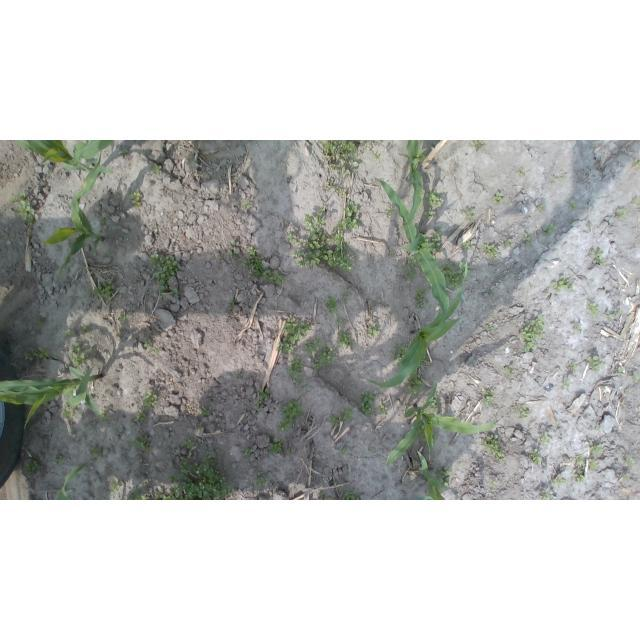Maize: (367, 255, 470, 391), (374, 177, 450, 341), (384, 382, 493, 465), (42, 152, 105, 286), (0, 362, 104, 426), (10, 140, 114, 174), (395, 140, 428, 232), (51, 459, 107, 500), (415, 450, 448, 500)
Weeds: (167, 456, 233, 501), (316, 140, 358, 178), (145, 252, 181, 296), (276, 316, 313, 355), (326, 233, 355, 274), (517, 313, 546, 352), (439, 262, 472, 291), (243, 246, 271, 280), (277, 399, 304, 432), (11, 191, 35, 228), (333, 201, 360, 232), (306, 229, 328, 266), (480, 435, 506, 462), (304, 207, 327, 234), (286, 356, 305, 388), (425, 227, 444, 254), (23, 344, 52, 361), (93, 280, 116, 301), (357, 391, 376, 416), (69, 344, 89, 367), (406, 371, 425, 394), (390, 344, 409, 367), (305, 336, 324, 357), (436, 466, 453, 488), (551, 275, 574, 291), (130, 433, 150, 451), (586, 355, 607, 372), (228, 240, 242, 265), (423, 190, 441, 209), (317, 347, 336, 365), (141, 391, 159, 409), (327, 181, 346, 198), (266, 437, 286, 453), (269, 270, 287, 287), (294, 250, 310, 269), (338, 332, 354, 351), (415, 287, 429, 308), (325, 296, 339, 316), (128, 188, 141, 209), (590, 250, 606, 267), (23, 461, 42, 475), (62, 403, 78, 419), (253, 472, 269, 488), (126, 488, 147, 500), (587, 300, 600, 318), (484, 243, 499, 258), (117, 309, 131, 325), (286, 231, 302, 245), (134, 408, 149, 422), (611, 208, 627, 221), (364, 323, 380, 336), (429, 395, 440, 413), (551, 473, 565, 487), (588, 441, 602, 455), (460, 207, 474, 221), (417, 423, 427, 442), (491, 191, 504, 205), (538, 431, 551, 445), (339, 408, 353, 421), (530, 449, 542, 464), (484, 389, 495, 405), (566, 199, 579, 212), (90, 446, 103, 459), (517, 406, 530, 419), (542, 224, 555, 237), (552, 172, 566, 184), (155, 488, 169, 500), (376, 403, 390, 415), (54, 453, 69, 464), (109, 479, 124, 490), (430, 426, 439, 444), (328, 414, 340, 427), (407, 255, 419, 268), (34, 316, 46, 328), (312, 359, 324, 371), (150, 162, 162, 174), (199, 407, 212, 418), (341, 290, 352, 303), (404, 268, 415, 281), (521, 233, 532, 246), (470, 140, 484, 150), (539, 490, 553, 500), (318, 492, 333, 501), (424, 208, 435, 220), (259, 388, 270, 400), (574, 471, 585, 483), (574, 456, 586, 467), (503, 364, 514, 376), (98, 213, 110, 224), (625, 454, 635, 467), (343, 492, 357, 501), (97, 411, 108, 422), (588, 459, 599, 470), (226, 298, 236, 310), (605, 311, 614, 324), (63, 329, 74, 339), (183, 439, 194, 449), (80, 326, 92, 335), (143, 338, 153, 348), (243, 200, 254, 209), (385, 207, 394, 218), (631, 373, 640, 384), (569, 361, 577, 373), (574, 323, 583, 333), (517, 167, 525, 178), (538, 203, 547, 212), (155, 347, 164, 356), (255, 401, 264, 410), (420, 357, 429, 366), (504, 239, 513, 248), (563, 380, 572, 389), (243, 448, 253, 456), (489, 479, 497, 489), (373, 151, 381, 160), (463, 241, 472, 249), (633, 158, 640, 168), (362, 140, 369, 150), (617, 366, 624, 376), (631, 197, 639, 205), (335, 318, 343, 326), (341, 446, 350, 453), (303, 381, 310, 389), (614, 308, 622, 315), (119, 150, 129, 155), (286, 448, 292, 456), (236, 372, 244, 378), (622, 475, 630, 481), (485, 325, 494, 330), (587, 222, 594, 228), (197, 423, 203, 429), (405, 404, 411, 410), (389, 251, 395, 257), (217, 254, 224, 259), (625, 389, 631, 394), (152, 224, 157, 228), (432, 255, 436, 260), (622, 402, 626, 407), (370, 449, 374, 453)
